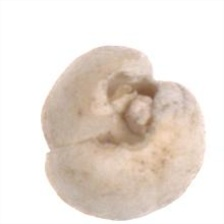L3: (90, 67, 164, 152)
L4: (41, 45, 206, 221)
